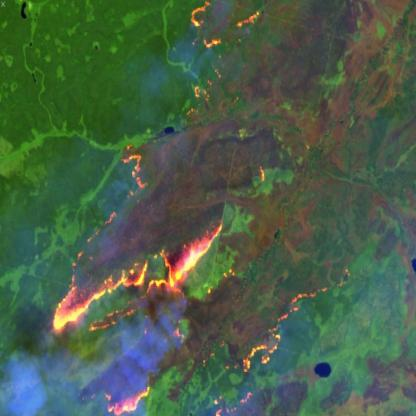fire: (44, 136, 346, 416), (186, 0, 269, 60)
